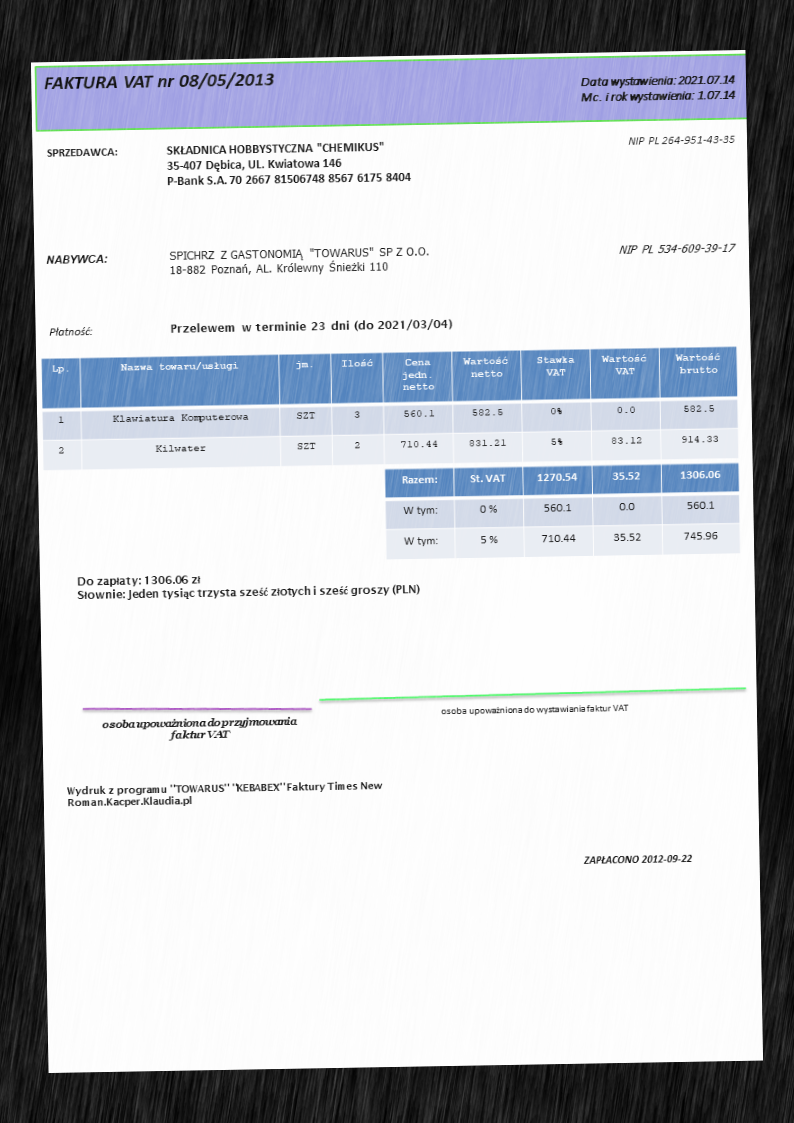Table: (39, 345, 739, 472), (384, 461, 742, 559)
TextBox: (164, 138, 414, 189), (75, 569, 422, 604), (64, 778, 384, 811), (166, 244, 432, 277), (41, 70, 276, 95), (169, 316, 454, 336), (101, 714, 299, 742), (578, 72, 737, 106), (439, 702, 629, 719), (581, 850, 693, 868), (617, 241, 736, 257), (626, 132, 735, 147), (44, 145, 120, 160), (44, 251, 109, 267), (47, 324, 93, 339)
